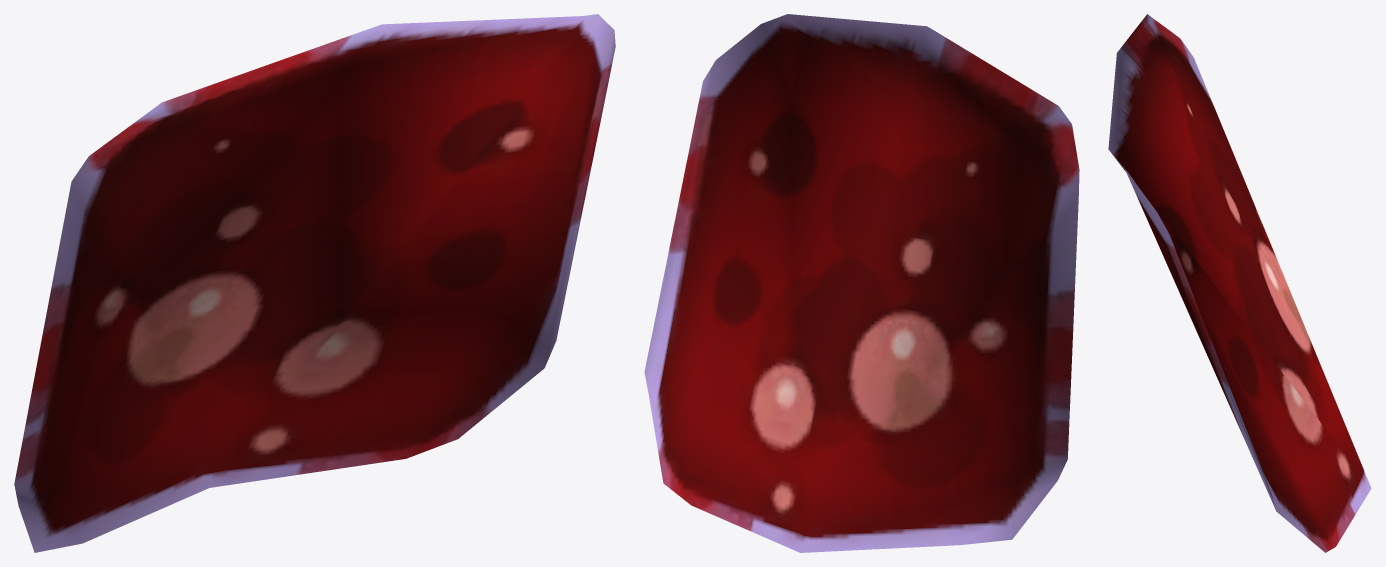
Rendered from Zombie_Broken_Normal_Head01_a49447ef__Zombie_Broken_Purple_cee75a00_c1f257.obj.
3 renders of one model, left to right at view 1: azimuth 30°, elevation 25°; view 2: azimuth 150°, elevation 25°; view 3: azimuth 270°, elevation 25°, orthographic. The views are drawn at different scales.
Size of the model in its own units: 0.7158 by 0.7221 by 0.3955.
1 material, 1 textured.
